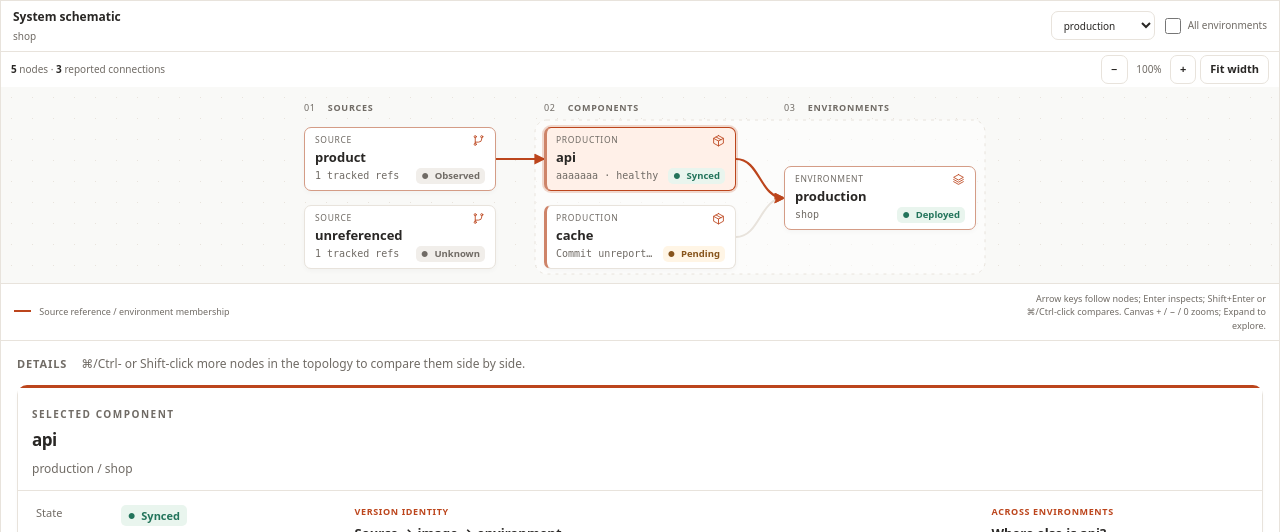
it: opens the connected source inspector and includes all environments without duplicating source nodes
The image size is (1280, 532).
What coordinates should you click on to do the following:
click the checkbox labelled "All environments"
I would click on:
 (1173, 26)
Its box is [1165,18,1181,34].
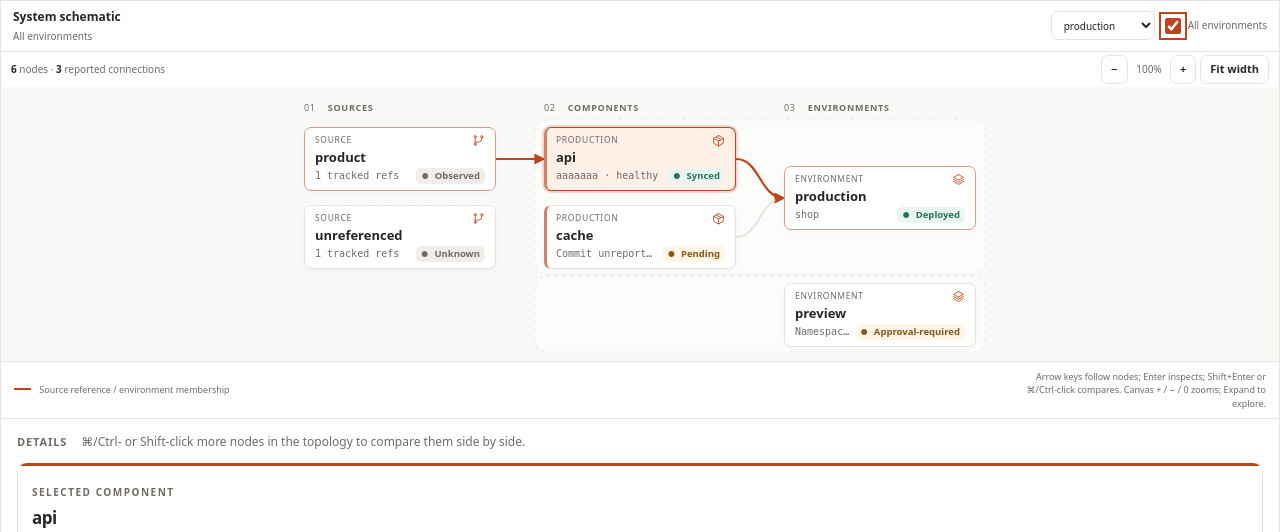
Expected: the button with aria-label "Select environment production" is shown, [784,166,976,230]
Expected: the button with aria-label "Select environment preview" is shown, [784,283,976,347]
What coordinates should you click on to do the following:
click the button with aria-label "Select source product"
I would click on:
 (400, 159)
Its box is [304,127,496,191].
(page scrolled)
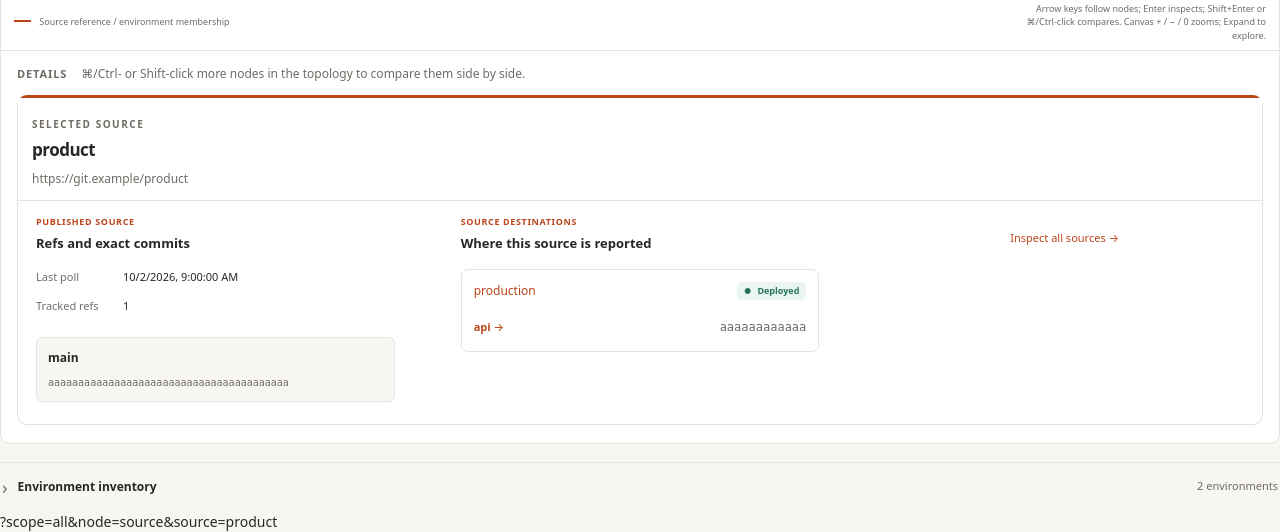
Expected: the heading "product" is shown, [32,138,95,161]
Expected: the text named "Current location" shows "node=source", [0,512,277,531]
